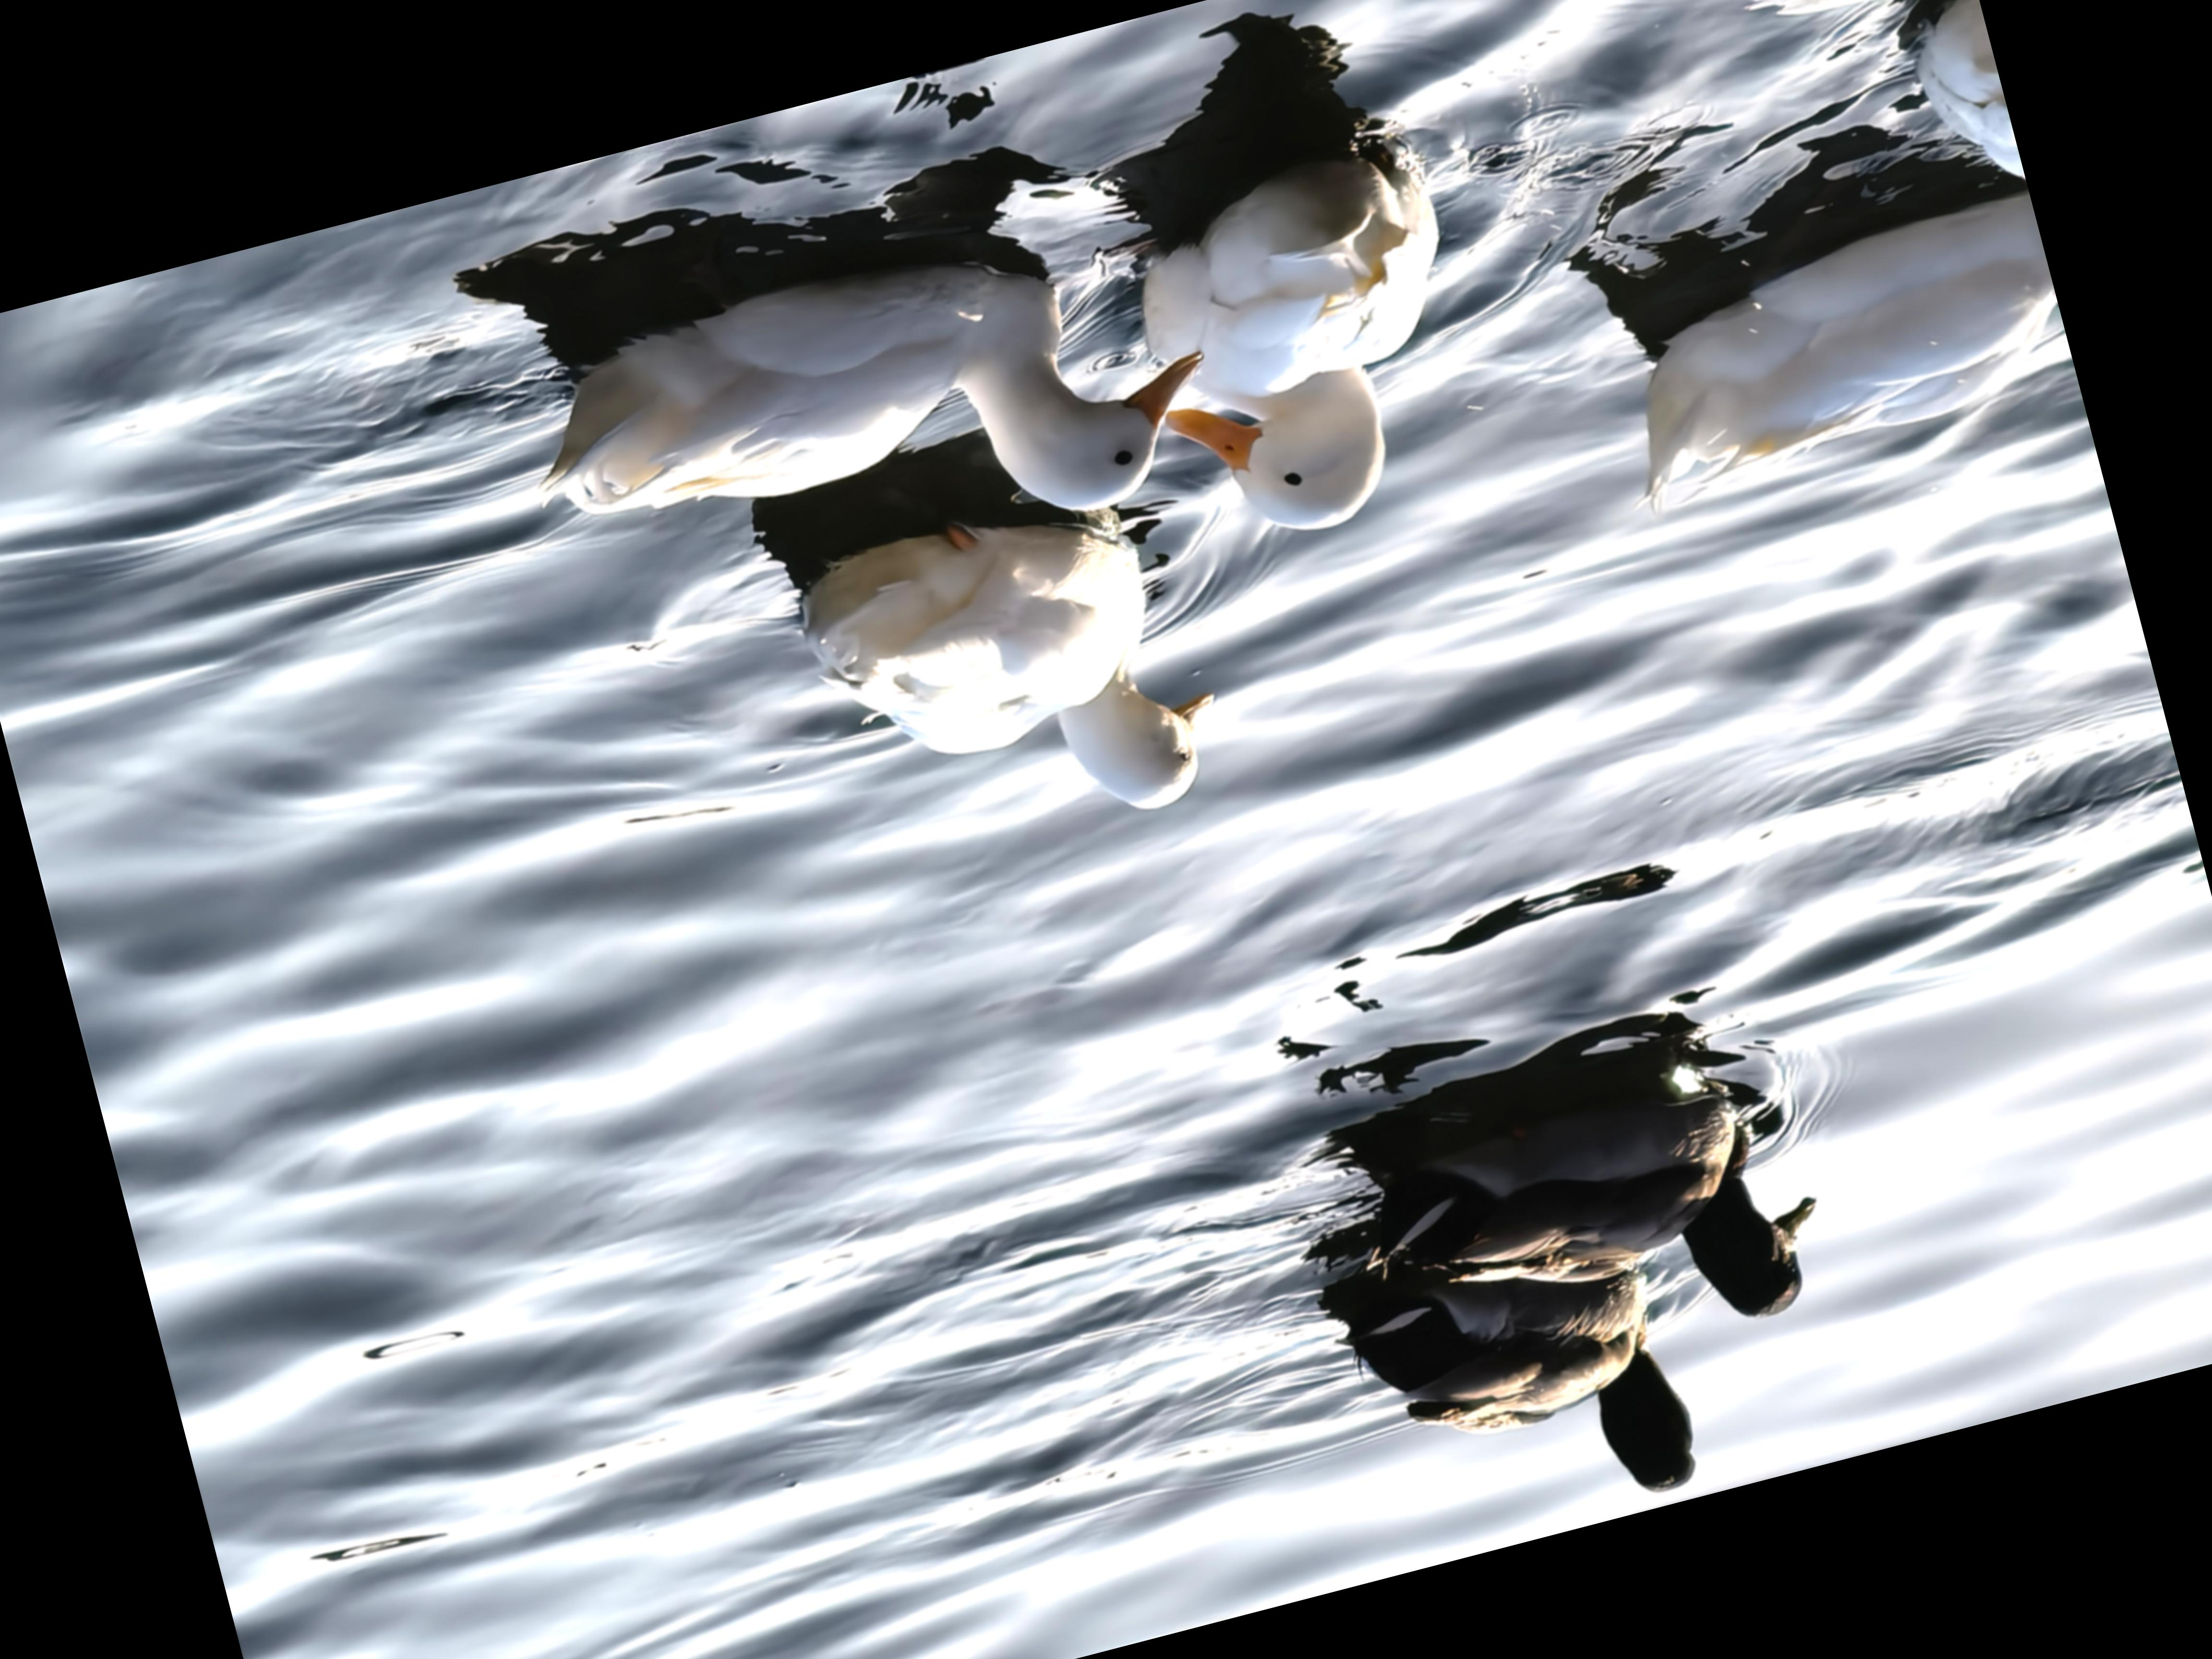duck: (444, 146, 1235, 667), (1287, 978, 1871, 1436), (738, 450, 1296, 925), (1575, 186, 2090, 551), (1106, 139, 1508, 587), (1317, 1216, 1754, 1577)
